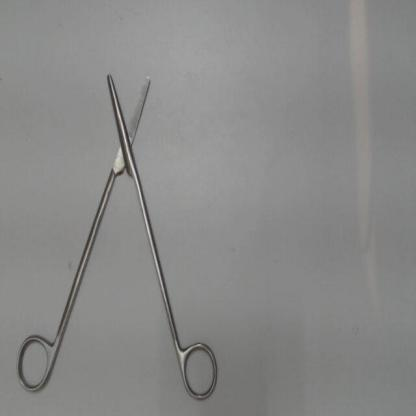9 Metzenbaum Scissors: (10, 65, 224, 409)
